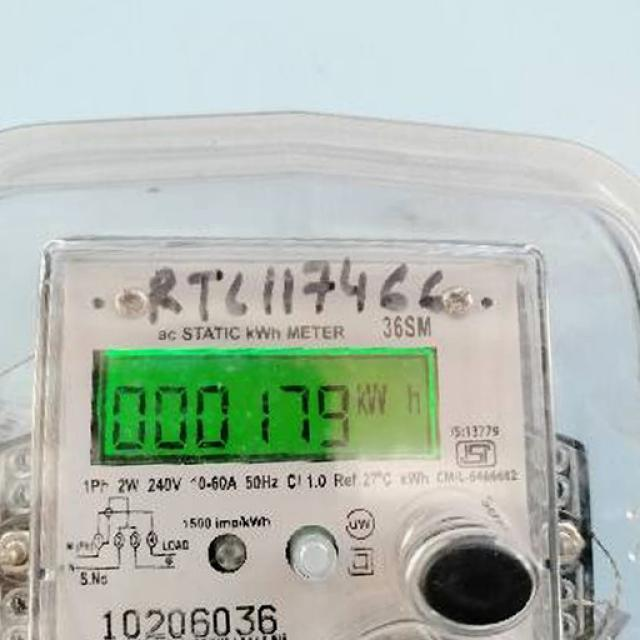display: (91, 343, 442, 468)
frame: (108, 377, 354, 453), (98, 599, 288, 640), (196, 470, 227, 495), (381, 312, 404, 342), (143, 473, 172, 495), (359, 467, 380, 492), (188, 512, 214, 532), (304, 471, 328, 492), (241, 470, 260, 490), (112, 472, 126, 496), (75, 568, 90, 588), (79, 473, 91, 496)
gauge: (29, 235, 562, 640)
